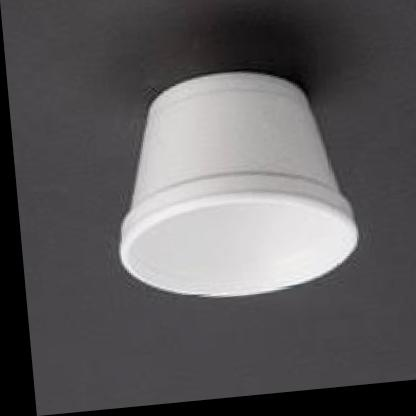trash: (120, 72, 357, 295)
